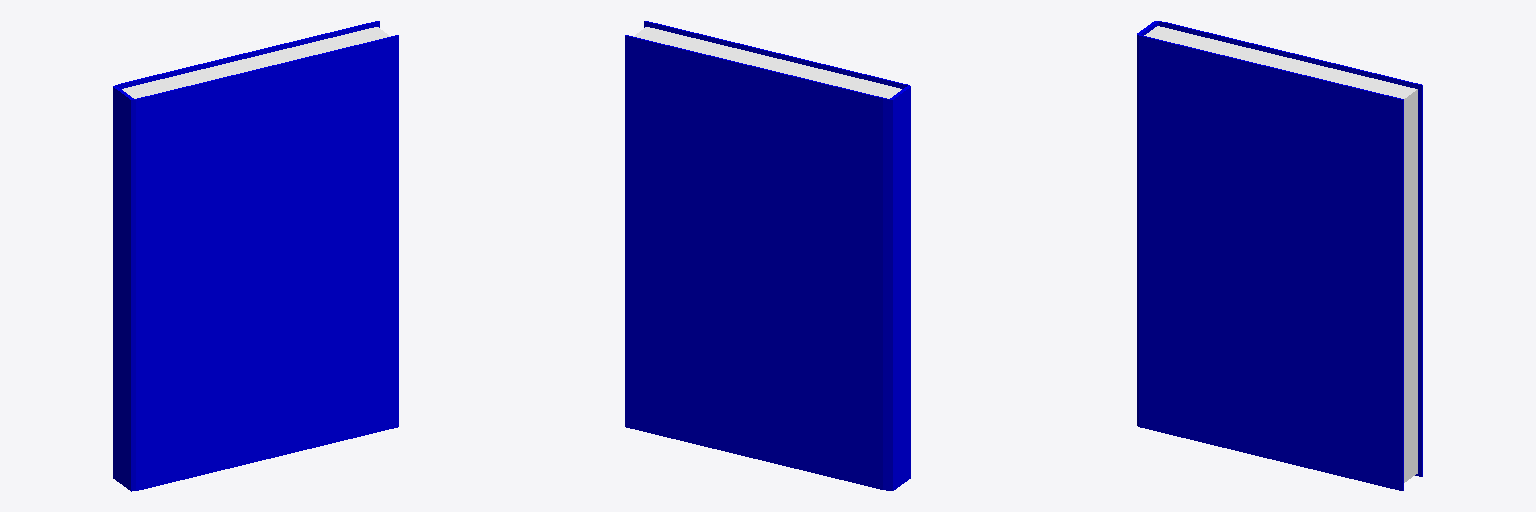
The robot description file, URDF, robot "book":
<?xml version="1.0"?>
<robot name="book"
       xmlns:xi="http://www.w3.org/2001/XInclude"
       xmlns:gazebo="http://playerstage.sourceforge.net/gazebo/xmlschema/#gz"
       xmlns:model="http://playerstage.sourceforge.net/gazebo/xmlschema/#model"
       xmlns:sensor="http://playerstage.sourceforge.net/gazebo/xmlschema/#sensor"
       xmlns:body="http://playerstage.sourceforge.net/gazebo/xmlschema/#body"
       xmlns:geom="http://playerstage.sourceforge.net/gazebo/xmlschema/#geom"
       xmlns:joint="http://playerstage.sourceforge.net/gazebo/xmlschema/#joint"
       xmlns:interface="http://playerstage.sourceforge.net/gazebo/xmlschema/#interface"
       xmlns:rendering="http://playerstage.sourceforge.net/gazebo/xmlschema/#rendering"
       xmlns:renderable="http://playerstage.sourceforge.net/gazebo/xmlschema/#renderable"
       xmlns:controller="http://playerstage.sourceforge.net/gazebo/xmlschema/#controller"
       xmlns:physics="http://playerstage.sourceforge.net/gazebo/xmlschema/#physics">
  <gazebo>
    <static>false</static>
  </gazebo>
  <link name="nil_link">
    <visual>
      <origin xyz="0 0 0" rpy="0 -0 0"/>
      <geometry>
        <mesh filename="model://book/meshes/nil_link_mesh.dae" scale="1 1 1" />
      </geometry>
    </visual>
    <collision>
      <origin xyz="0 0 0" rpy="0 -0 0"/>
      <geometry>
        <mesh filename="model://book/meshes/nil_link_mesh.dae" scale="1 1 1" />
      </geometry>
    </collision>
    <inertial>
      <mass value="0.001" />
      <origin xyz="0 0 0" rpy="0 -0 0"/>
      <inertia ixx="1e-09" ixy="0" ixz="0" iyy="1e-09" iyz="0" izz="1e-09"/>
    </inertial>
  </link>
  <gazebo reference="nil_link">
    <mu1>0.9</mu1>
    <mu2>0.9</mu2>
  </gazebo>
</robot>

--- Render facts (derived) ---
Views: 3 orthographic renders of the robot side by side, from view 1: azimuth 30°, elevation 25°; view 2: azimuth 150°, elevation 25°; view 3: azimuth 330°, elevation 25°.
Model book with 1 links and 0 joints (none), rooted at nil_link, posed every joint at zero.
Visible links, largest first — view 1: nil_link; view 2: nil_link; view 3: nil_link.
Link boxes in pixels (bbox=[...]): nil_link: bbox=[113, 21, 398, 491]; nil_link: bbox=[625, 21, 910, 490]; nil_link: bbox=[1137, 21, 1422, 490].
Bounding box of the posed robot: 0.15 × 0.02 × 0.21 m (x, y, z).
Meshes: 1 distinct files referenced, 1 mesh visuals loaded (1 Collada DAE).
